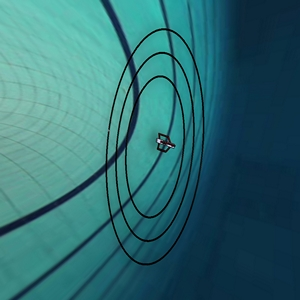circle: (73, 12, 230, 276)
submarine: (144, 122, 182, 160)
